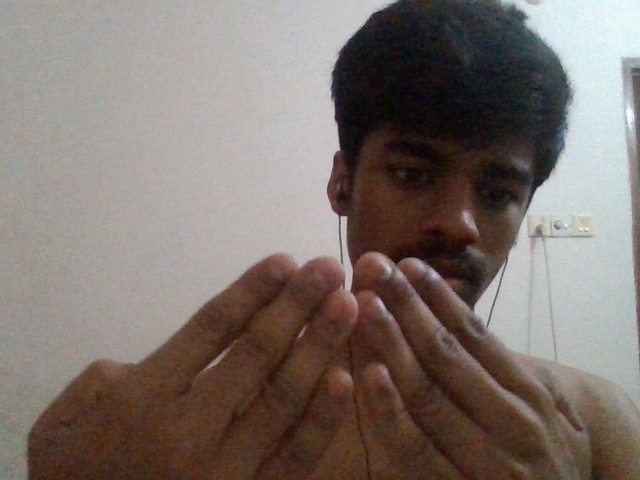Thanks: (19, 247, 590, 480)
